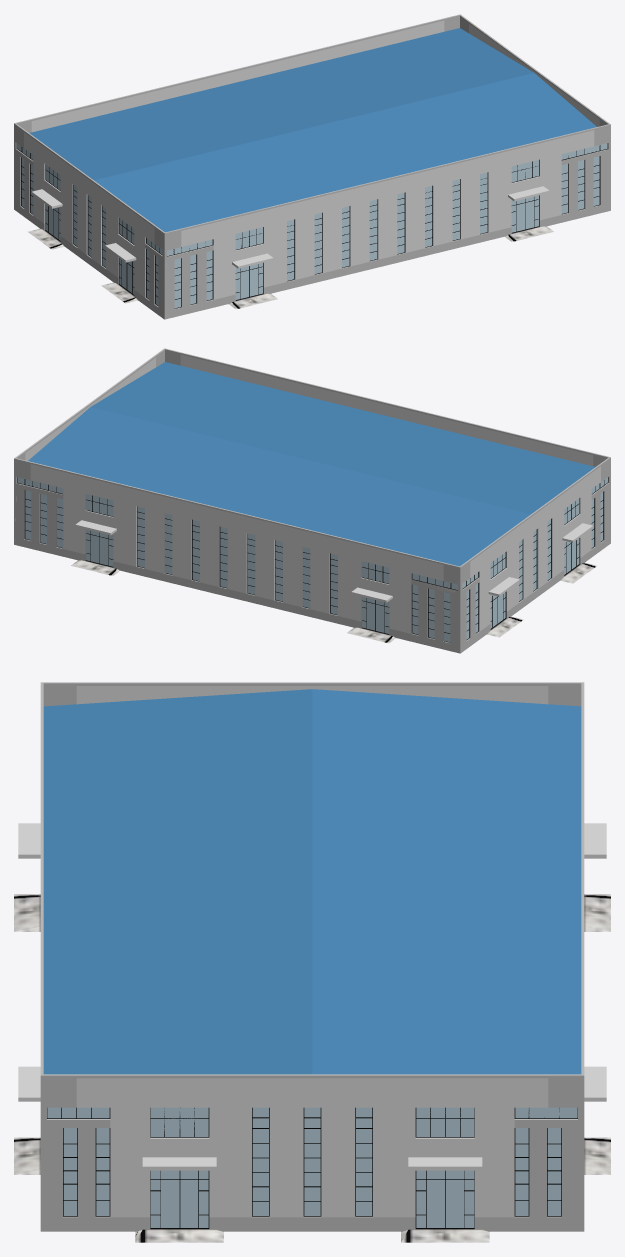
The model's file is workshop_1.glb.
3 renders of one model, top to bottom at view 1: azimuth 30°, elevation 25°; view 2: azimuth 150°, elevation 25°; view 3: azimuth 270°, elevation 25°, orthographic. The views are drawn at different scales.
Visible parts, largest first — view 1: 厂房21, 厂房21.002, 透明窗, 透明窗.001, 厂房21.012, 厂房21.010, 厂房21.015, 厂房21.013, 厂房21.009, 厂房21.011, 厂房21.014; view 2: 厂房21, 厂房21.002, 透明窗3, 透明窗.001, 厂房21.021, 厂房21.019, 厂房21.024, 厂房21.022, 厂房21.018, 厂房21.020, 厂房21.023; view 3: 厂房21, 厂房21.002, 透明窗4, 厂房21.193, 厂房21.194, 厂房21.005, 厂房21.006, 厂房21.265, 厂房21.323, 厂房21.406, 厂房21.464, 厂房21.007 (+3 smaller).
Part boxes in pixels (x1,y1,x2,y2): 厂房21: [29, 28, 596, 232]; 厂房21.002: [14, 14, 610, 319]; 透明窗: [166, 143, 607, 308]; 透明窗.001: [16, 143, 162, 305]; 厂房21.012: [377, 194, 397, 259]; 厂房21.010: [295, 214, 314, 279]; 厂房21.015: [460, 174, 479, 239]; 厂房21.013: [405, 187, 424, 252]; 厂房21.009: [322, 208, 341, 272]; 厂房21.011: [350, 201, 369, 266]; 厂房21.014: [433, 181, 452, 246]; 厂房21: [28, 362, 595, 566]; 厂房21.002: [14, 348, 610, 653]; 透明窗3: [17, 477, 457, 642]; 透明窗.001: [462, 477, 608, 639]; 厂房21.021: [227, 528, 247, 593]; 厂房21.019: [310, 548, 329, 613]; 厂房21.024: [145, 508, 164, 573]; 厂房21.022: [200, 521, 219, 586]; 厂房21.018: [283, 542, 302, 606]; 厂房21.020: [255, 535, 274, 600]; 厂房21.023: [172, 515, 191, 580]; 厂房21: [43, 689, 581, 1074]; 厂房21.002: [40, 682, 584, 1231]; 透明窗4: [47, 1107, 577, 1227]; 厂房21.193: [135, 1228, 223, 1242]; 厂房21.194: [401, 1228, 489, 1242]; 厂房21.005: [142, 1157, 216, 1170]; 厂房21.006: [408, 1157, 482, 1170]; 厂房21.265: [14, 1137, 40, 1174]; 厂房21.323: [14, 894, 40, 931]; 厂房21.406: [584, 1137, 610, 1174]; 厂房21.464: [584, 894, 610, 931]; 厂房21.007: [18, 1066, 40, 1101].
Size of the model in its own units: 66.71 by 11.65 by 40.46.
6 materials, 3 textured.
